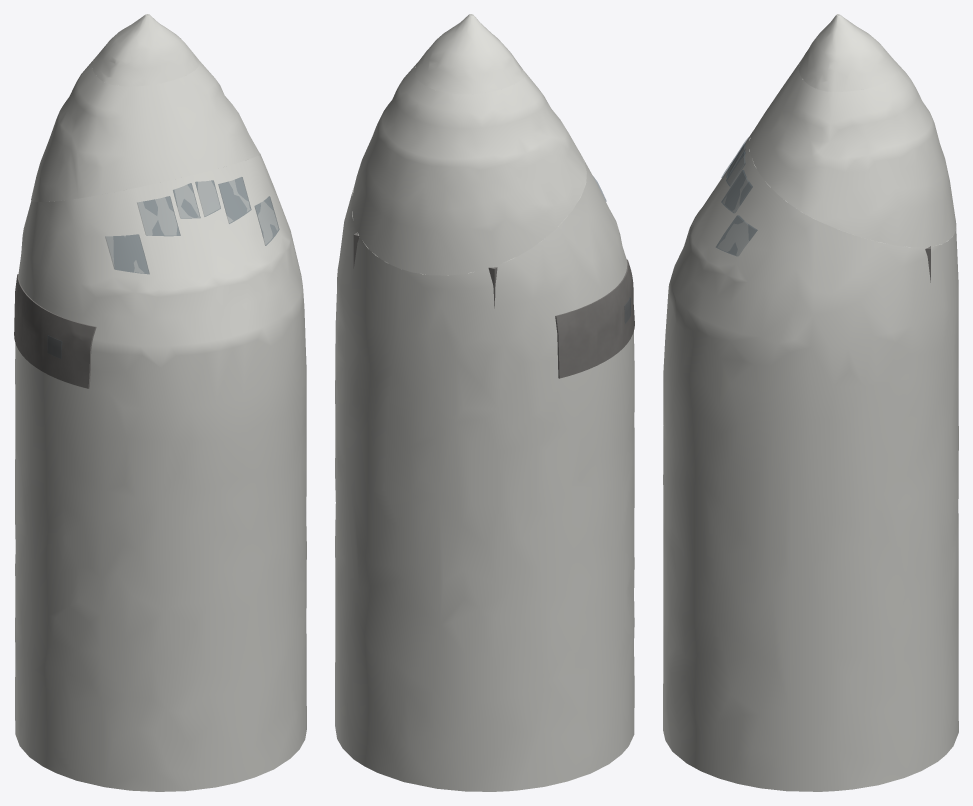
Rendered from cockpit03_airliner_flight_deck.glb.
3 renders of one model, left to right at view 1: azimuth 30°, elevation 25°; view 2: azimuth 150°, elevation 25°; view 3: azimuth 270°, elevation 25°, orthographic. The views are drawn at different scales.
Parts seen in each view (by area): view 1: fuselage, nose_visor, flight_deck_windows, radome, crew_door; view 2: fuselage, nose_visor, radome, crew_door; view 3: fuselage, nose_visor, radome, flight_deck_windows.
Boxes of the visible parts, <box> form: fuselage: <box>15,153,306,791</box>; nose_visor: <box>31,57,259,202</box>; flight_deck_windows: <box>47,177,279,358</box>; radome: <box>92,14,199,86</box>; crew_door: <box>14,274,96,388</box>; fuselage: <box>335,151,634,791</box>; nose_visor: <box>351,62,586,275</box>; radome: <box>414,14,524,94</box>; crew_door: <box>555,259,634,378</box>; fuselage: <box>663,130,958,791</box>; nose_visor: <box>749,59,956,247</box>; radome: <box>799,14,898,91</box>; flight_deck_windows: <box>716,137,757,256</box>.
Size of the model in its own units: 3.76 by 10 by 3.75.
4 materials, 1 textured.
